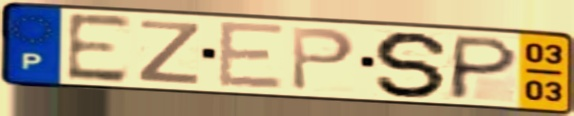E: (64, 11, 135, 85), (216, 19, 287, 91)
P: (444, 33, 522, 102), (288, 25, 358, 93)
S: (371, 29, 455, 100)
Z: (134, 18, 204, 87)
